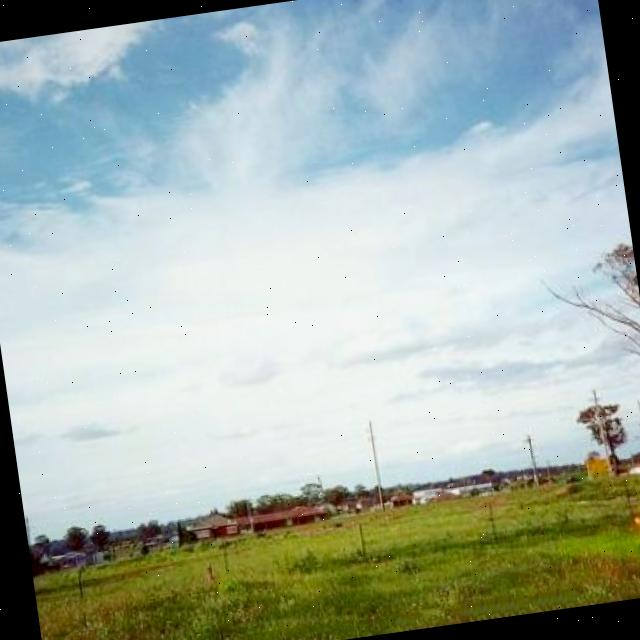Cs: (1, 1, 630, 314)
